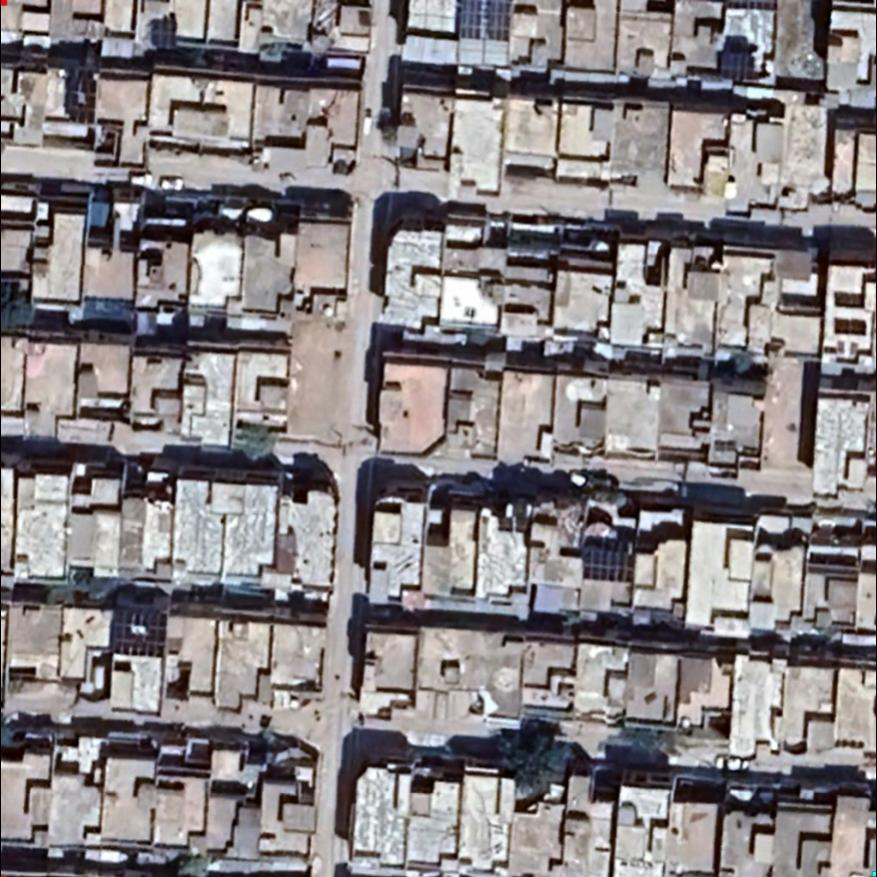Solarpanel: (107, 609, 169, 662), (579, 540, 635, 591), (454, 0, 512, 43), (61, 72, 99, 126), (712, 47, 755, 82)
